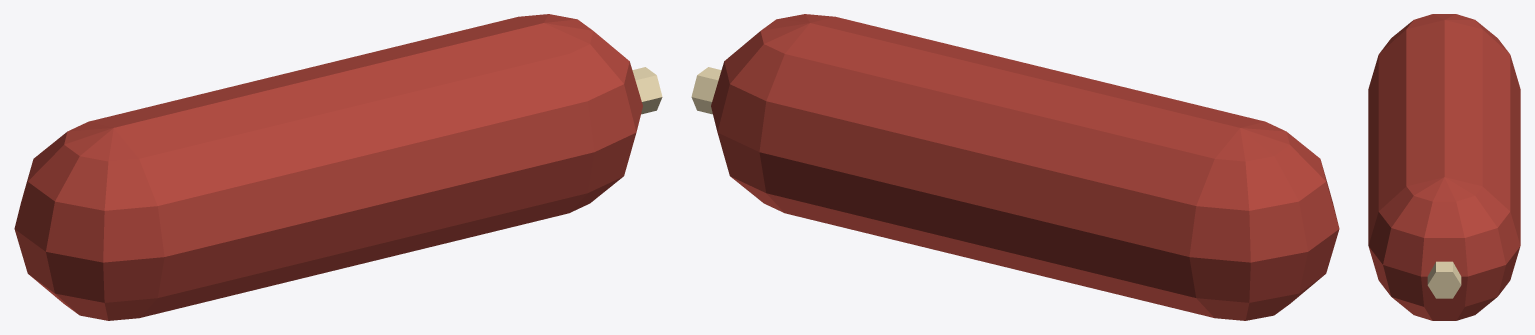
Rendered from sausage.glb.
3 views of the same model, side by side, from view 1: azimuth 30°, elevation 25°; view 2: azimuth 150°, elevation 25°; view 3: azimuth 270°, elevation 25° (orthographic). The views are drawn at different scales.
Visible parts, largest first — view 1: sausage; view 2: sausage; view 3: sausage.
Boxes of the visible parts, x1,y1,x2,y2 form: sausage: (14,14,662,320); sausage: (691,14,1339,320); sausage: (1368,14,1520,320).
Bounding box in the file's own units: 0.3178 × 0.09 × 0.09.
